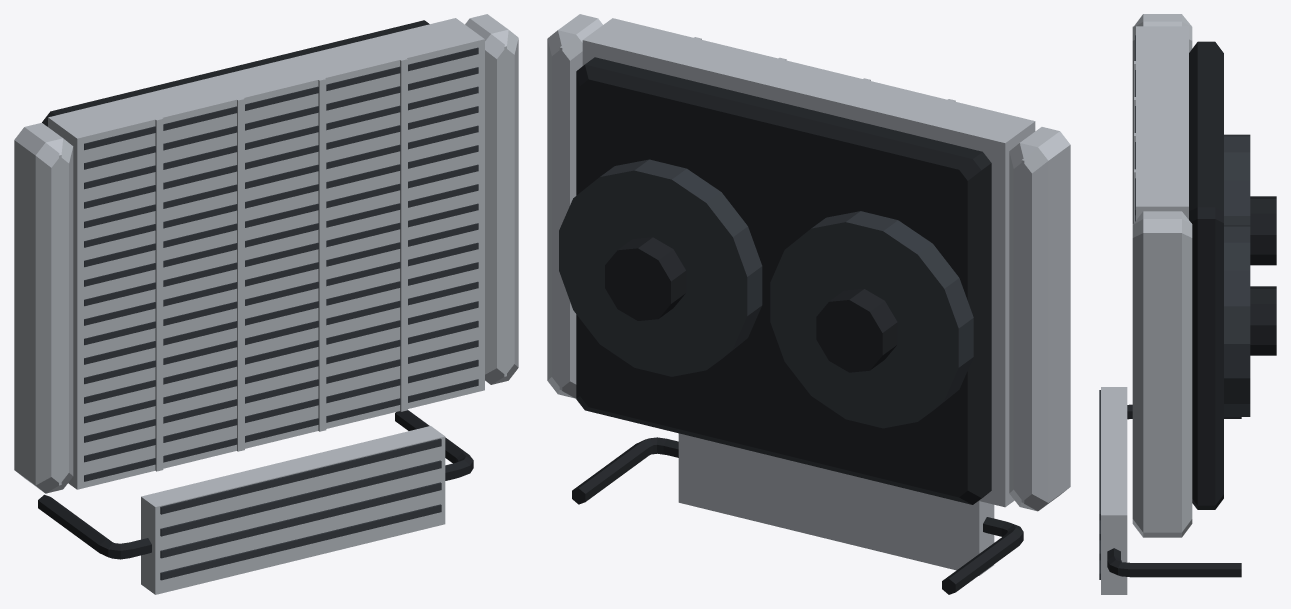
The model's file is radiator_race.glb.
The picture shows the model from 3 angles, left to right: view 1: azimuth 30°, elevation 25°; view 2: azimuth 150°, elevation 25°; view 3: azimuth 270°, elevation 25°; orthographic projection. The views are drawn at different scales.
Visible parts, largest first — view 1: model; view 2: model; view 3: model.
Part boxes in pixels (box(x1,y1,x2,y2)): model: box(14, 14, 518, 594); model: box(547, 14, 1070, 594); model: box(1099, 14, 1276, 594).
Size of the model in its own units: 0.576 by 0.52 by 0.202.
1 material, 1 textured.
